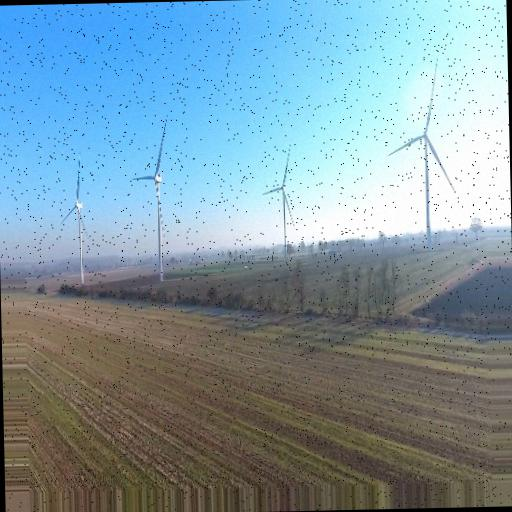wind turbine: (388, 64, 455, 240), (132, 122, 169, 285), (260, 146, 299, 260), (61, 168, 94, 281)
